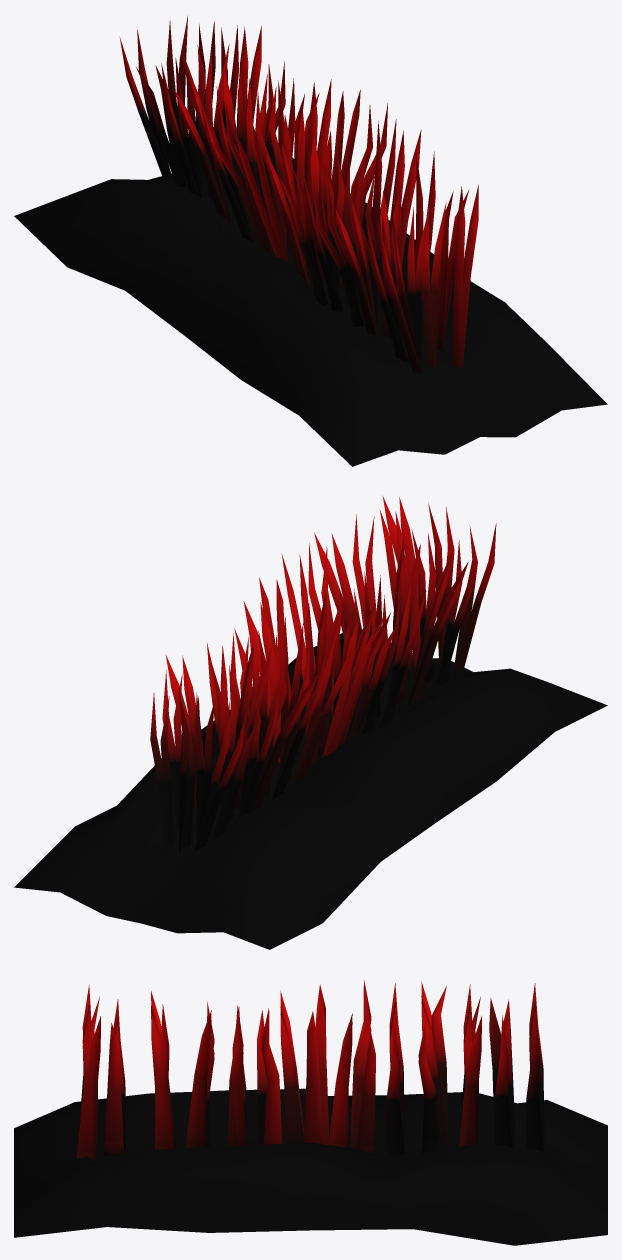
The model's file is SM_CropField.fbx.
3 views of the same model, one above another, from view 1: azimuth 30°, elevation 25°; view 2: azimuth 150°, elevation 25°; view 3: azimuth 270°, elevation 25° (orthographic). The views are drawn at different scales.
Parts seen in each view (by area): view 1: SM_CropField; view 2: SM_CropField; view 3: SM_CropField.
Part boxes in pixels (x1,y1,x2,y2): SM_CropField: [14, 16, 607, 466]; SM_CropField: [14, 496, 607, 949]; SM_CropField: [14, 980, 607, 1245].
Bounding box in the file's own units: 110 × 93.75 × 251.
